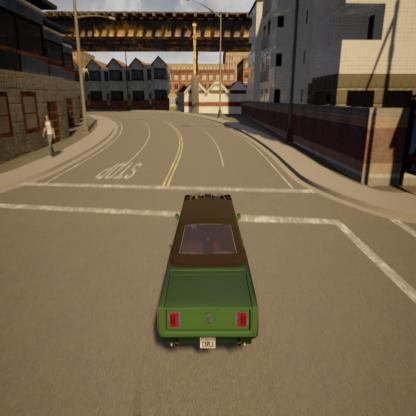Cars: (157, 195, 259, 350)
Pedestrian: (43, 113, 56, 158)
